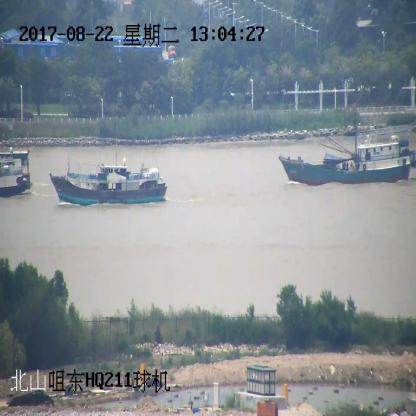Fishing Boat: (280, 110, 415, 188), (50, 158, 166, 207), (0, 147, 33, 197)
